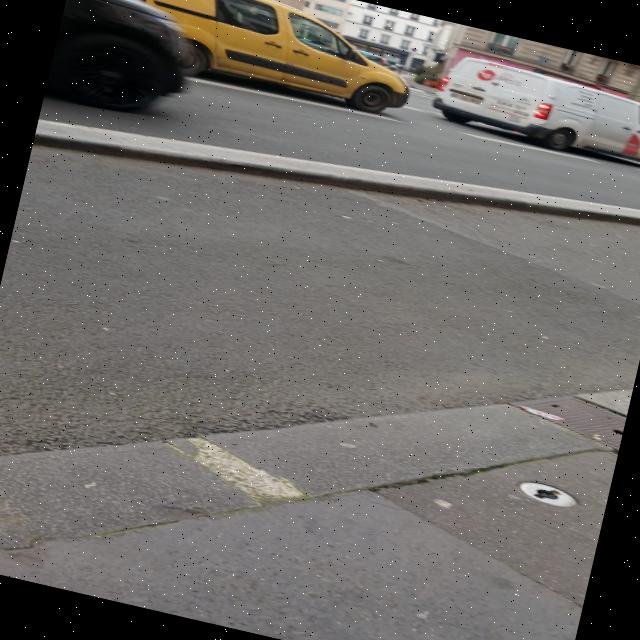Autre: (437, 86, 497, 110)
